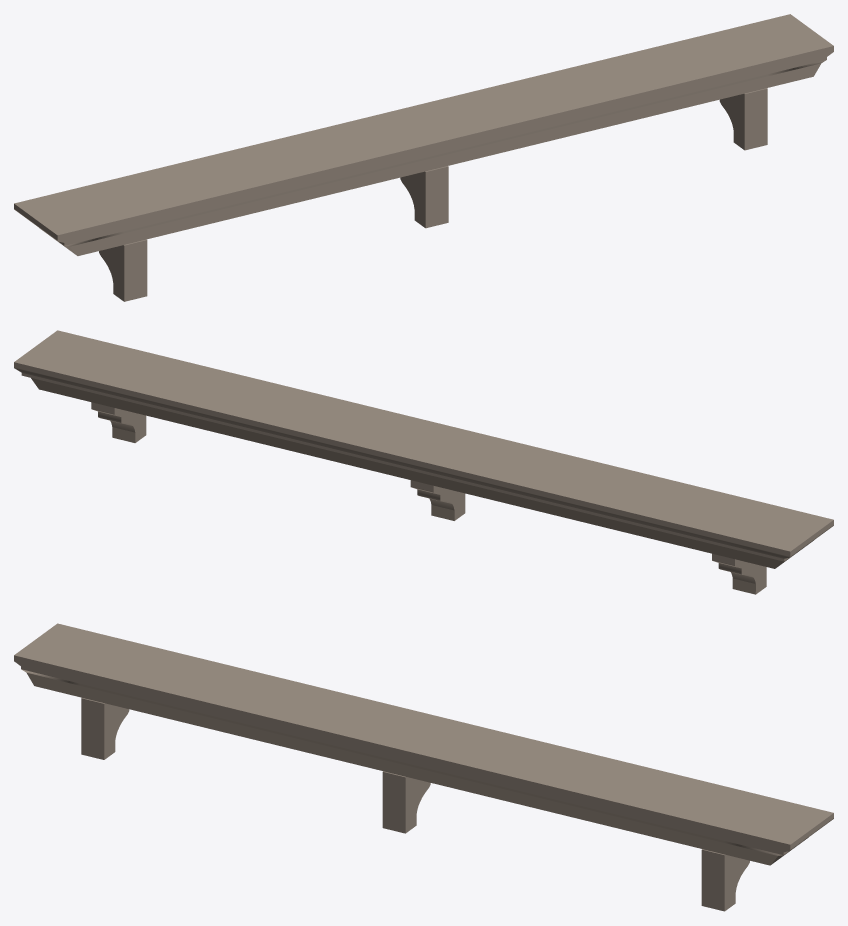
File: Ledge.fbx
3 renders of one model, top to bottom at view 1: azimuth 30°, elevation 25°; view 2: azimuth 150°, elevation 25°; view 3: azimuth 330°, elevation 25°, orthographic.
Visible parts, largest first — view 1: Ledge; view 2: Ledge; view 3: Ledge.
Part boxes in pixels (<box>): Ledge: <box>14,14,833,301</box>; Ledge: <box>14,330,833,594</box>; Ledge: <box>14,623,833,911</box>.
Bounding box in the file's own units: 16.2 × 1.66 × 1.57.
